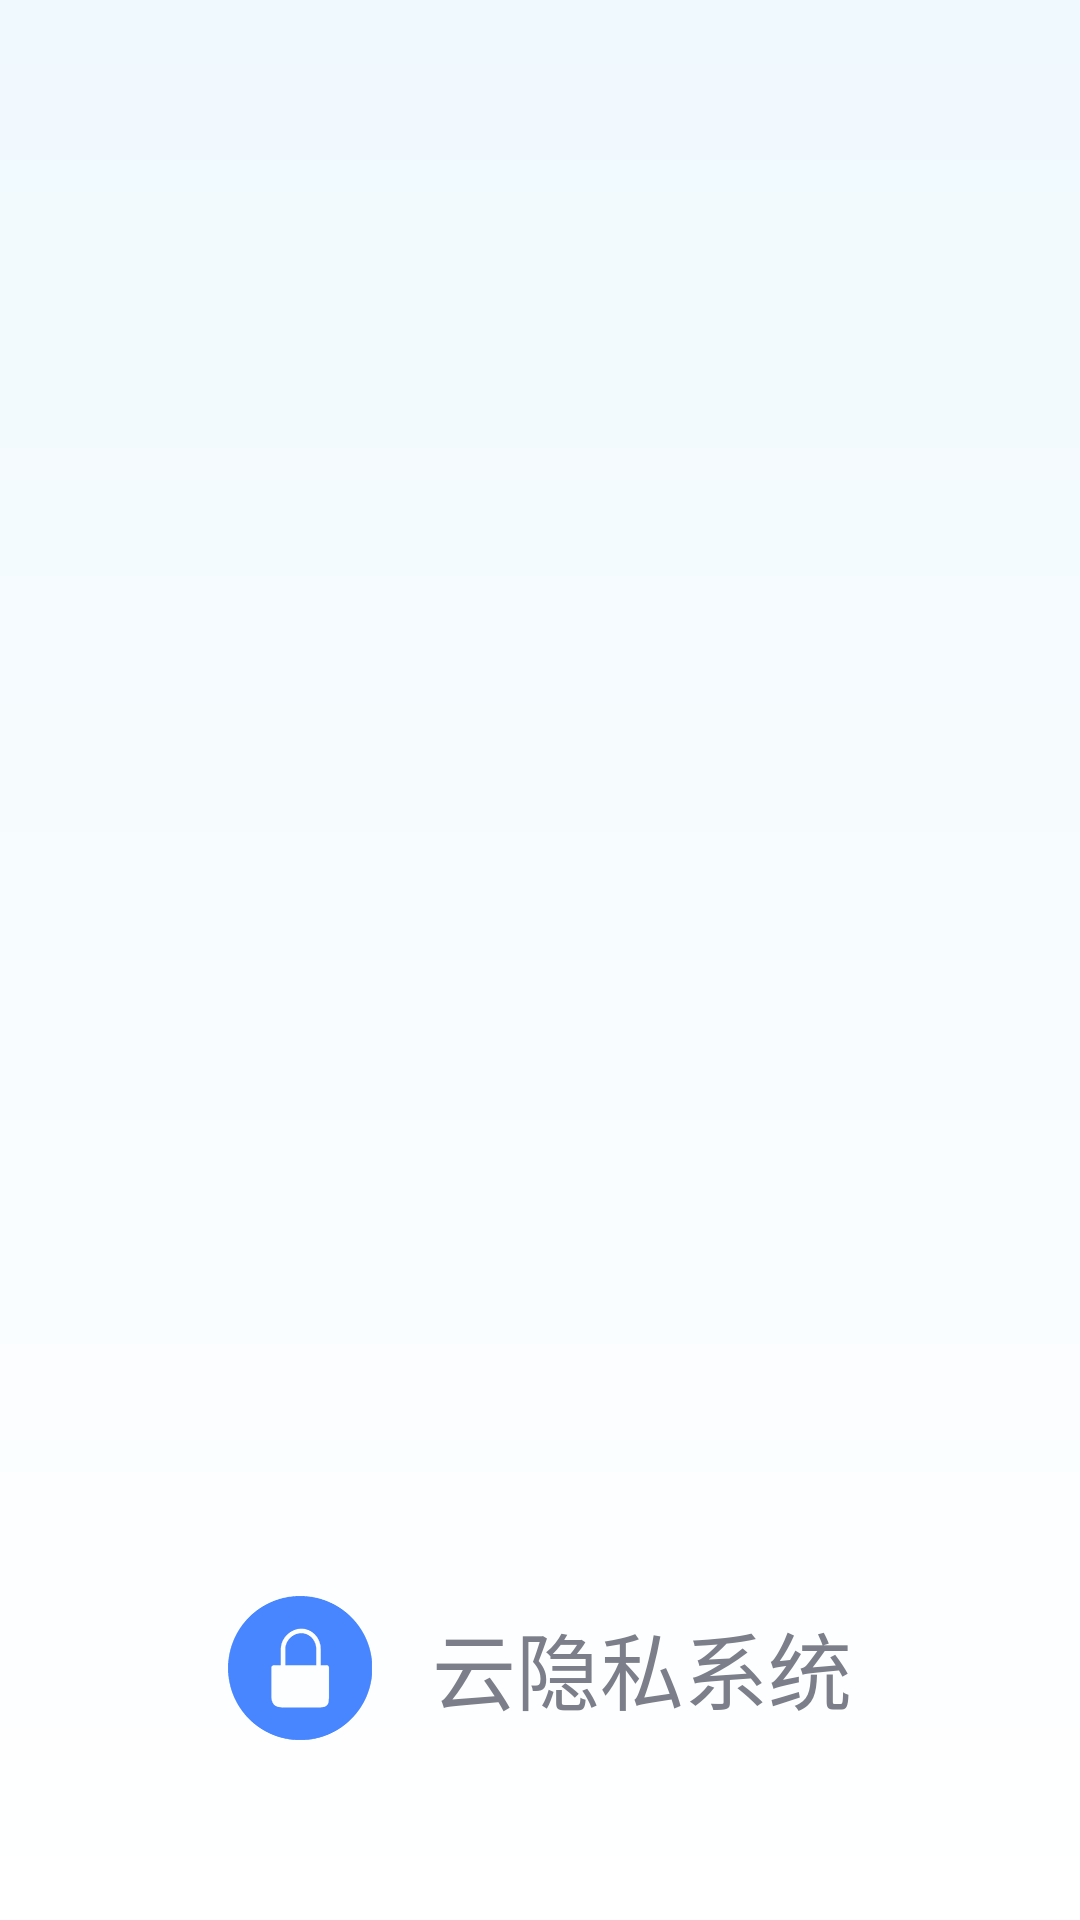

Icon bounding boxes for this 1080w x 1920h phone screenshot, format (x1, y1, x2, y2):
lock: (228, 1596, 372, 1740)
